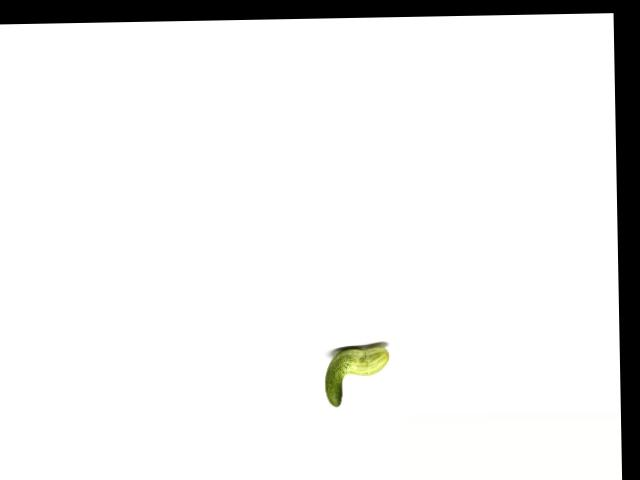cucumber: (323, 345, 389, 406)
